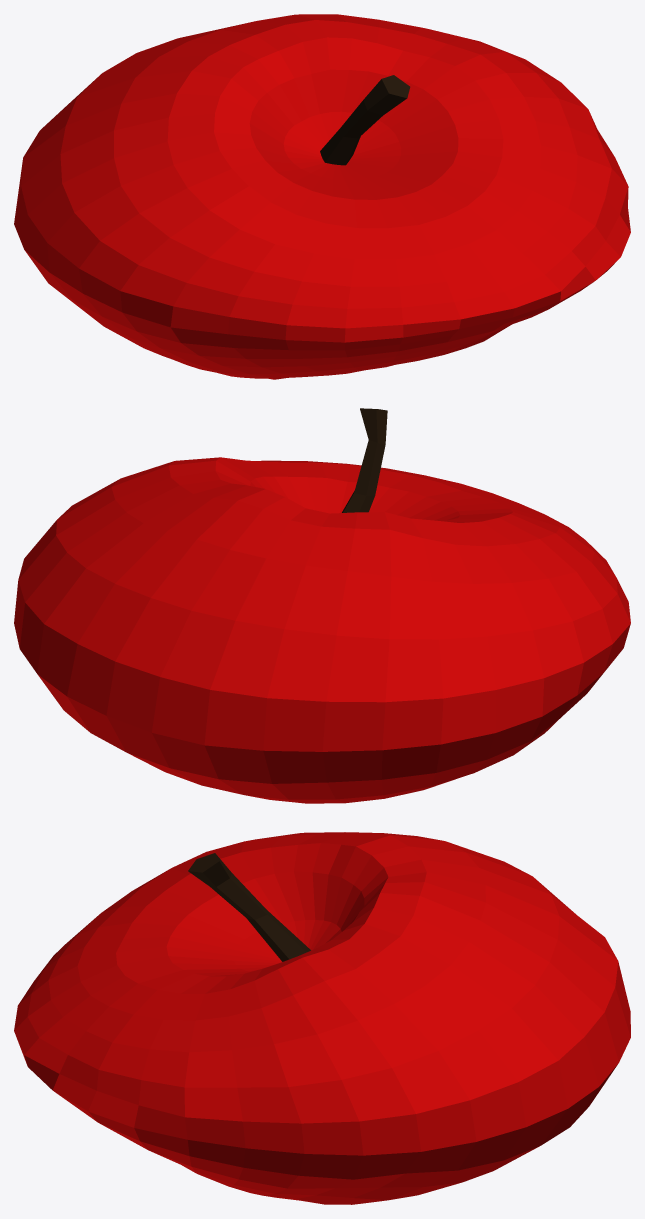
The model's file is Bouncing_apple_000001.obj.
3 renders of one model, top to bottom at view 1: azimuth 30°, elevation 25°; view 2: azimuth 150°, elevation 25°; view 3: azimuth 270°, elevation 25°, orthographic.
Parts seen in each view (by area): view 1: Bouncing_apple.001_Cylinder.005; view 2: Bouncing_apple.001_Cylinder.005; view 3: Bouncing_apple.001_Cylinder.005.
Part boxes in pixels (left/top/right/bottom): Bouncing_apple.001_Cylinder.005: left=14, top=14, right=630, bottom=379; Bouncing_apple.001_Cylinder.005: left=14, top=408, right=630, bottom=803; Bouncing_apple.001_Cylinder.005: left=14, top=832, right=630, bottom=1204.
Bounding box in the file's own units: 2.49 × 1.45 × 2.5.
